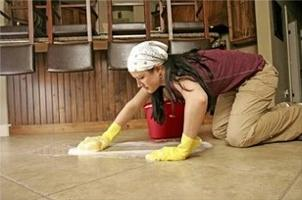person: (77, 40, 302, 162)
